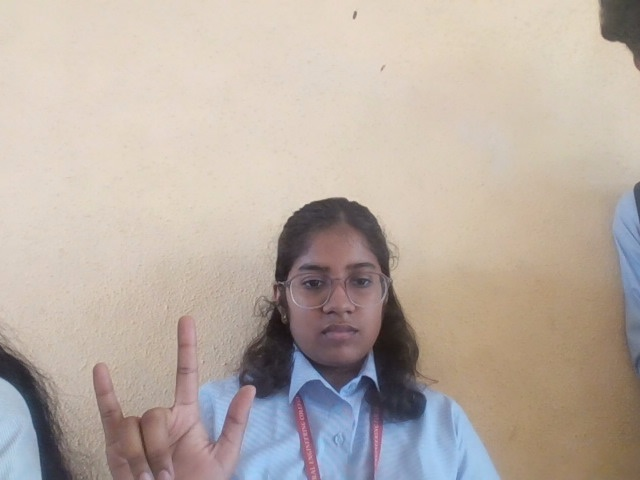I Love You: (86, 309, 263, 480)
